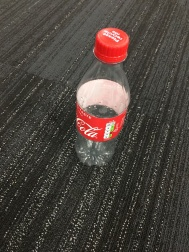bottle_red: (57, 24, 141, 182)
